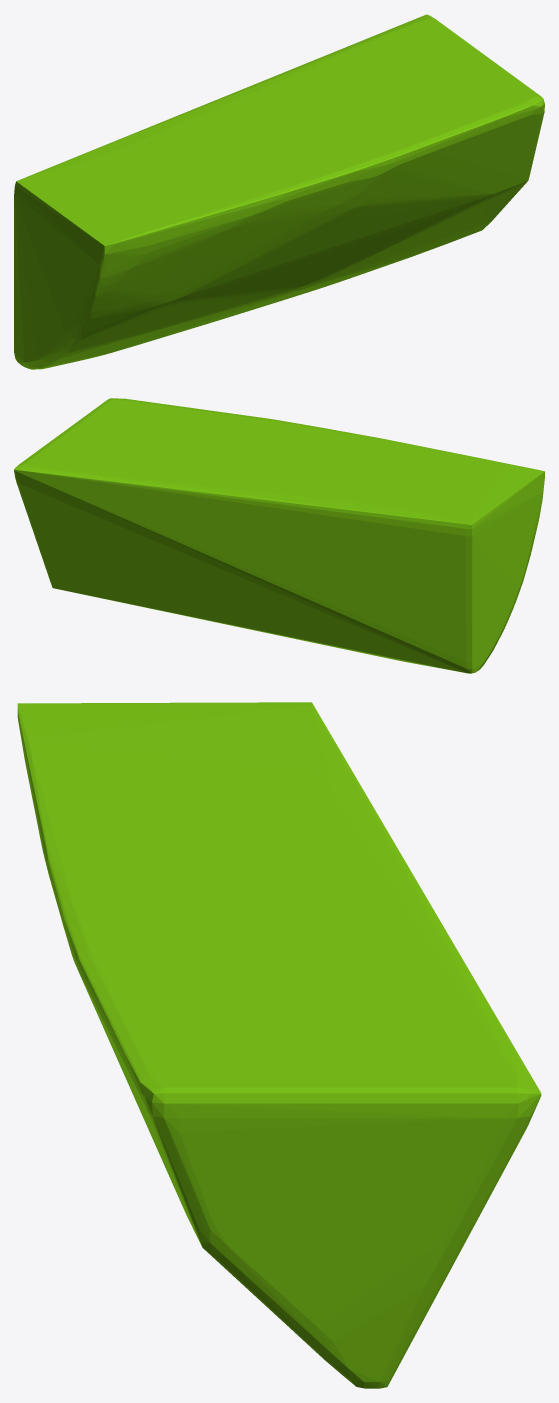
The model's file is right-elbow-0_part_4.obj.
3 views of the same model, one above another, from view 1: azimuth 30°, elevation 25°; view 2: azimuth 150°, elevation 25°; view 3: azimuth 270°, elevation 25° (orthographic). The views are drawn at different scales.
Size of the model in its own units: 0.0556 by 0.0203 by 0.031.
